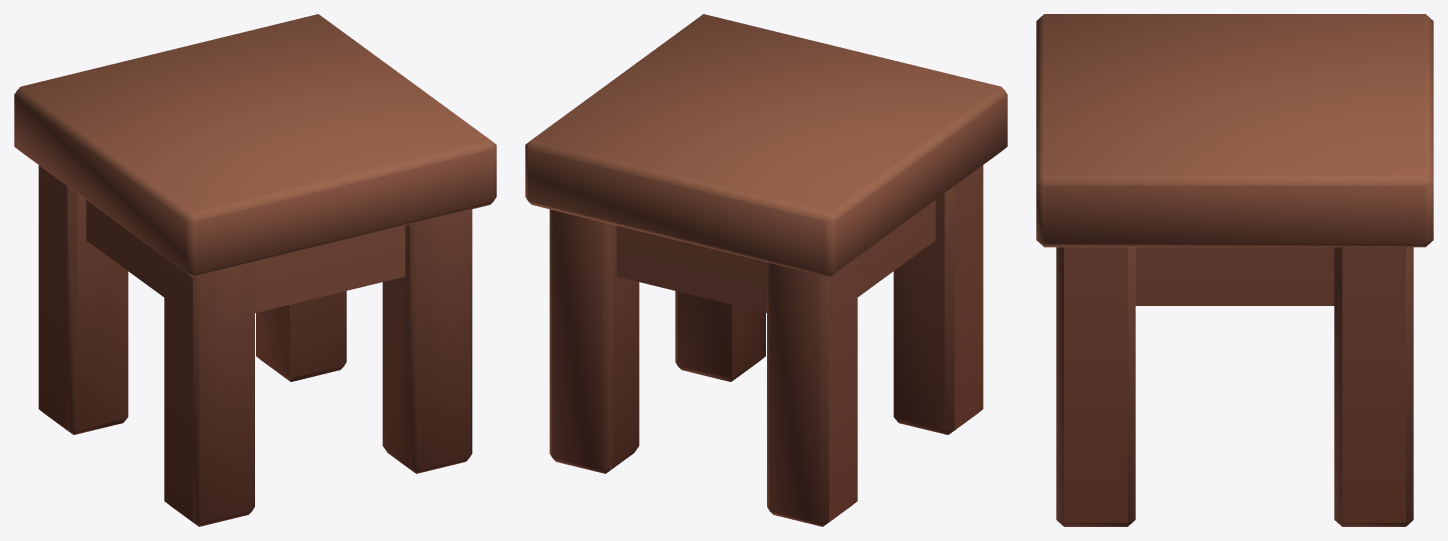
The model's file is K_table_small.glb.
3 renders of one model, left to right at view 1: azimuth 30°, elevation 25°; view 2: azimuth 150°, elevation 25°; view 3: azimuth 270°, elevation 25°, orthographic. The views are drawn at different scales.
Visible parts, largest first — view 1: table_small; view 2: table_small; view 3: table_small.
Part boxes in pixels (x1,y1,x2,y2): table_small: (14,14,496,526); table_small: (525,14,1007,526); table_small: (1036,14,1433,526).
Bounding box in the file's own units: 1 × 1 × 1.
